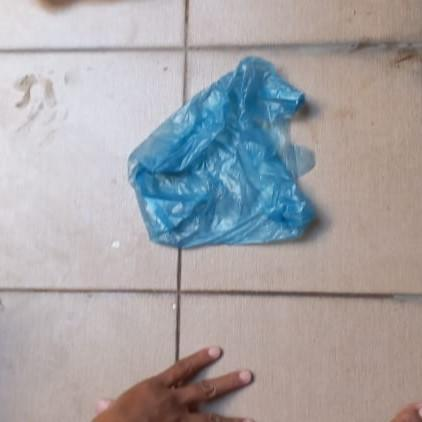Plastik: (128, 56, 318, 248)
